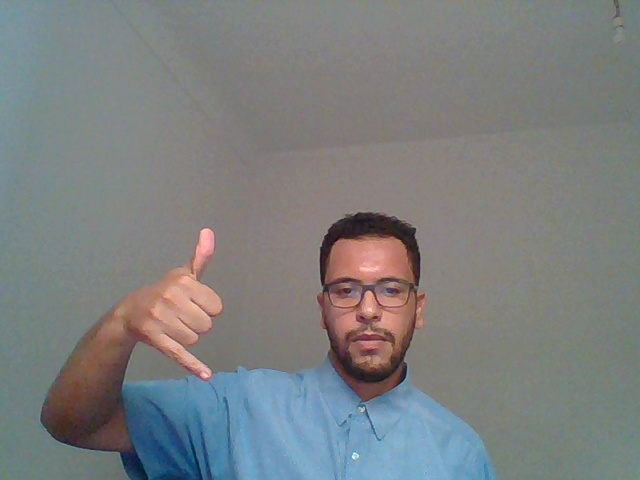callme: (39, 177, 249, 463)
